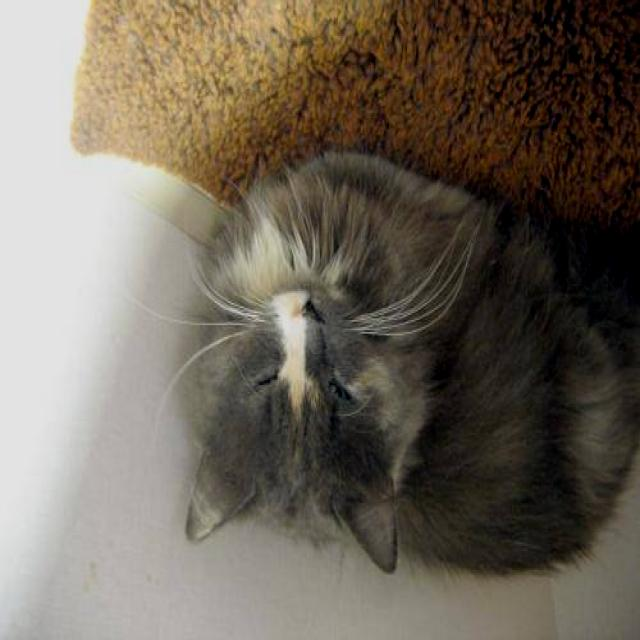Kucing: (134, 123, 640, 622)
